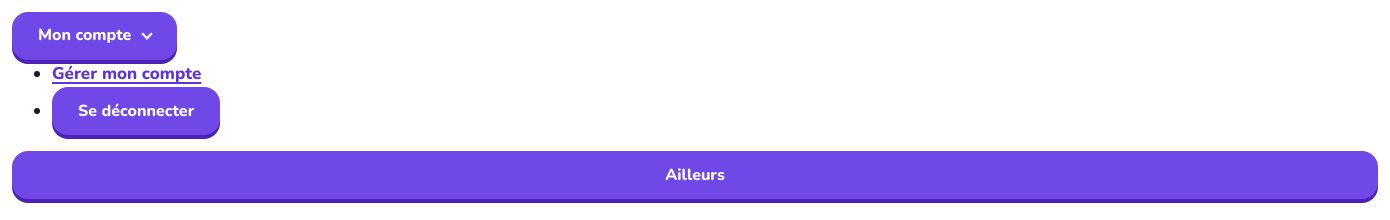
MenuCompte › un clic ouvre le menu et annonce qu’il est ouvert
What coordinates should you click on to do the following:
click the button "Mon compte"
I would click on:
 (95, 36)
Its box is [12,12,177,60].
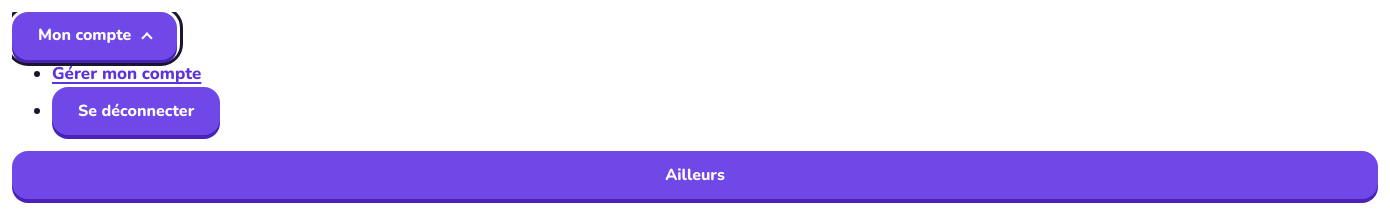
Expected: the link "Gérer mon compte" is shown, [52,62,201,85]
Expected: the button "Mon compte" is expanded, [12,12,177,60]
